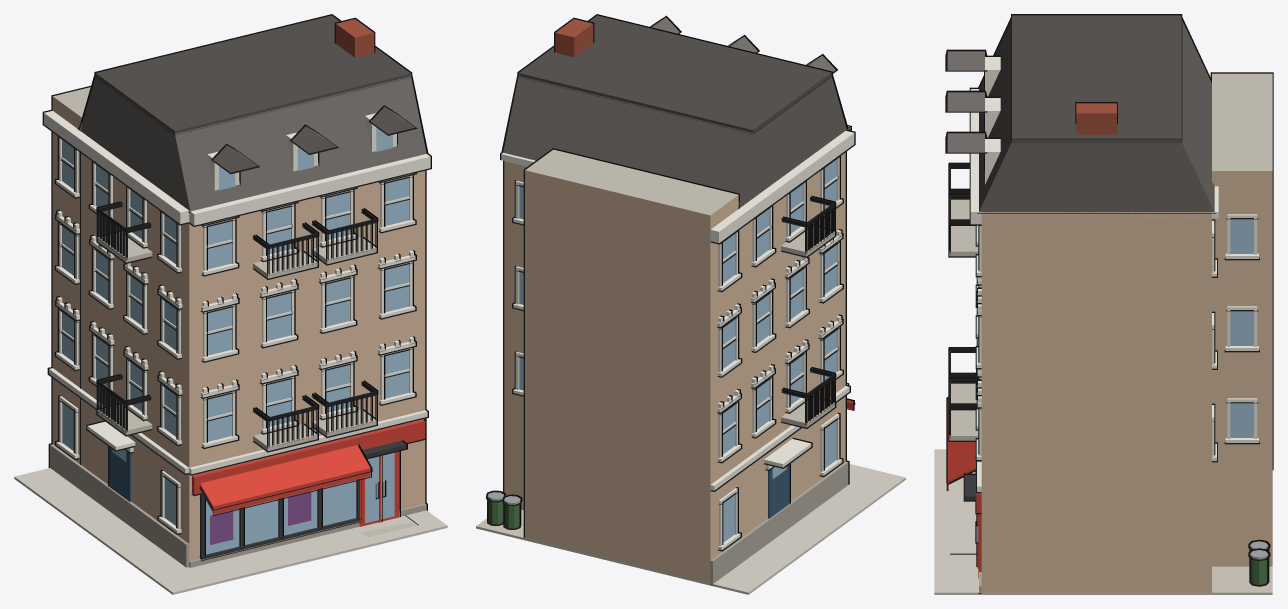
File: Blok_kose_4k_3.fbx
The picture shows the model from 3 angles, left to right: view 1: azimuth 30°, elevation 25°; view 2: azimuth 150°, elevation 25°; view 3: azimuth 270°, elevation 25°; orthographic projection. The views are drawn at different scales.
Visible parts, largest first — view 1: Blok_kose_4k_3; view 2: Blok_kose_4k_3; view 3: Blok_kose_4k_3.
Boxes of the visible parts, x1,y1,x2,y2 form: Blok_kose_4k_3: (14,14,447,594); Blok_kose_4k_3: (476,14,905,594); Blok_kose_4k_3: (934,14,1273,594).
Bounding box in the file's own units: 10.05 × 15.68 × 10.03.
